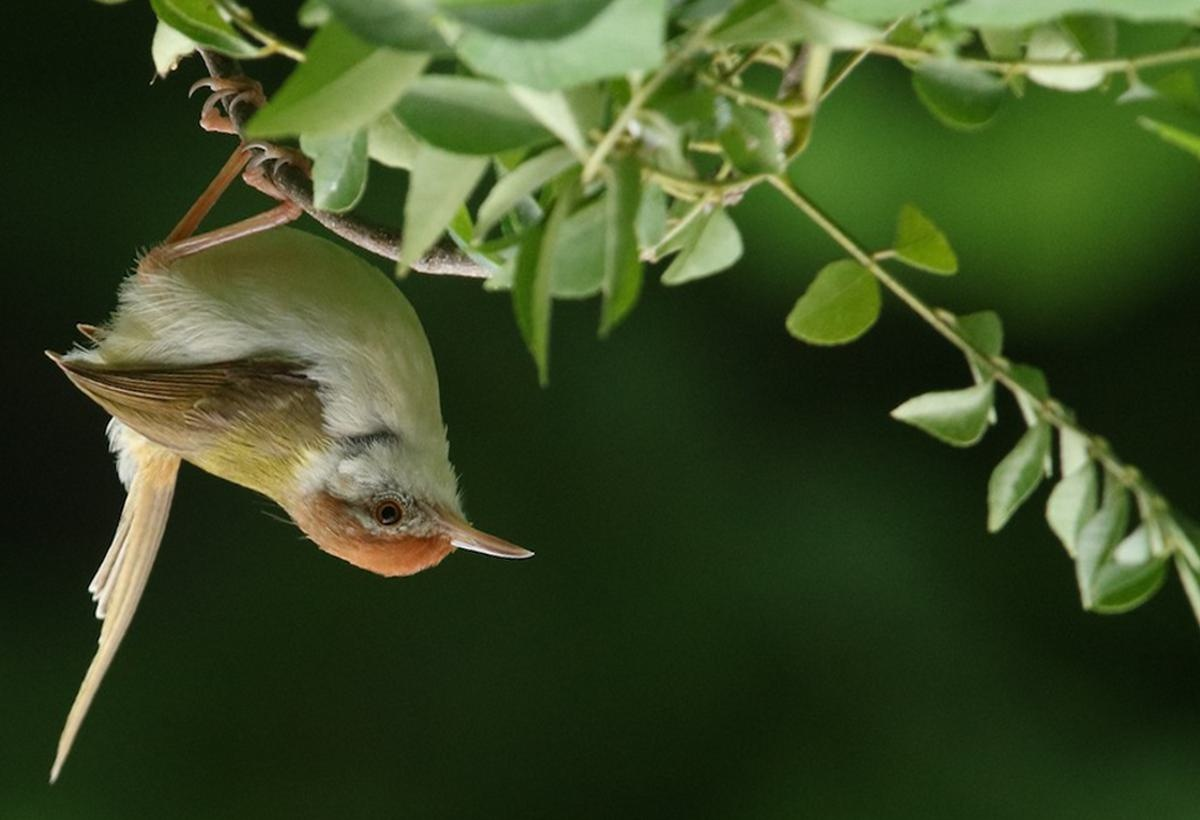tailorbird: (36, 103, 528, 788)
